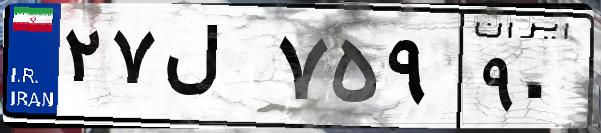0: (525, 38, 570, 115)
2: (57, 26, 110, 100)
5: (330, 28, 385, 110)
7: (270, 28, 330, 110), (110, 28, 158, 98)
9: (385, 28, 445, 110), (475, 38, 525, 113)
ل: (158, 20, 270, 120)
